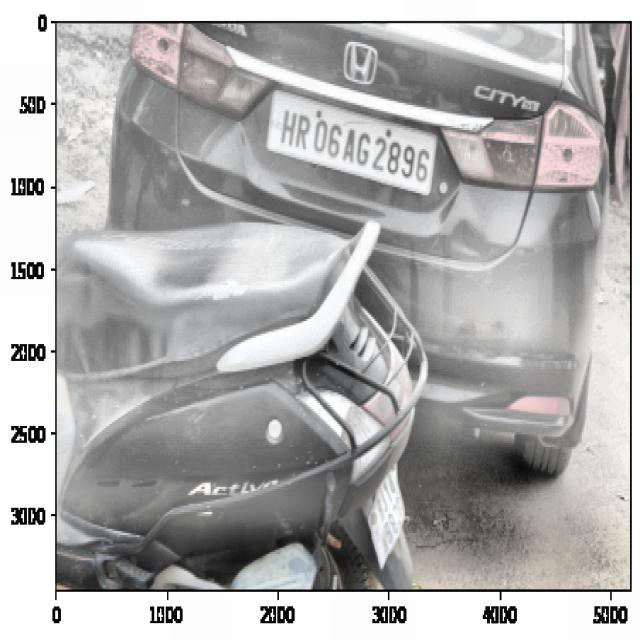license_plate: (278, 98, 432, 190)
